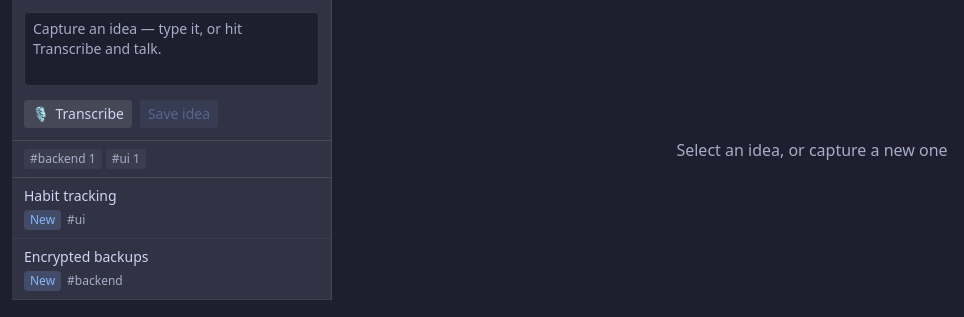
Ideas › filters the list by tag pill
Click the button "#ui 1" at (126, 159), box left=106, top=149, right=146, bottom=169
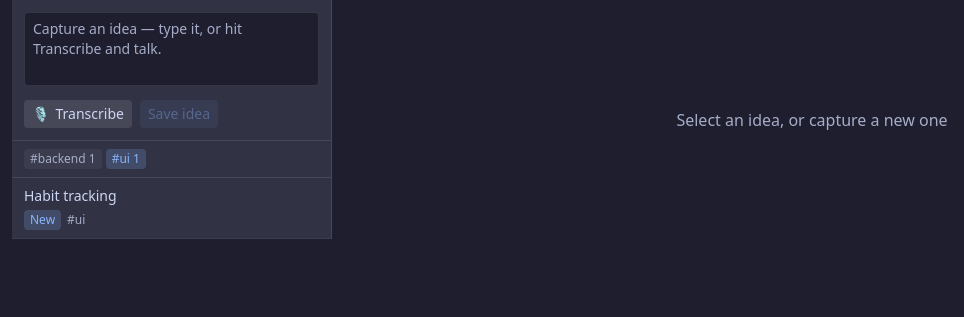
Expected: the text "Habit tracking" is shown, left=24, top=186, right=117, bottom=205
Result: the button "Encrypted backups" is gone
